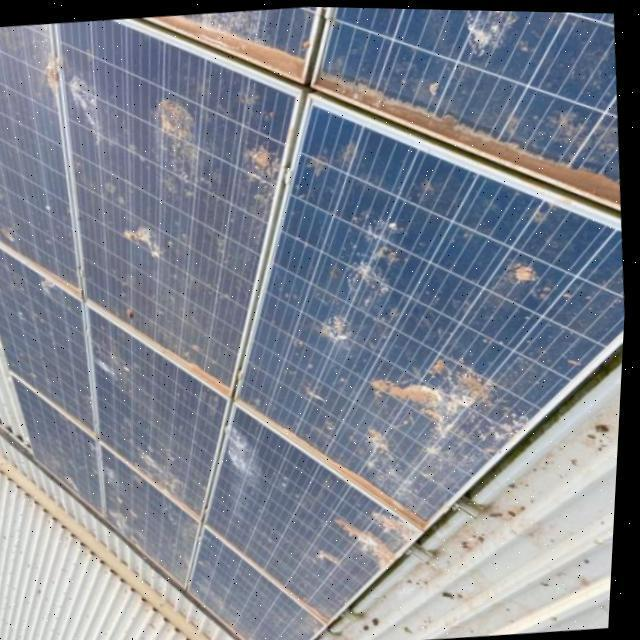Anomaly Solar Panel: (237, 97, 628, 528), (0, 17, 305, 386), (315, 6, 622, 208), (169, 394, 416, 623), (28, 293, 271, 516), (0, 198, 124, 456), (69, 440, 226, 585), (0, 23, 83, 294), (0, 374, 140, 515), (171, 527, 326, 640)
Surface Contaminant: (322, 307, 543, 527), (312, 68, 622, 201), (113, 15, 305, 76), (123, 423, 217, 508), (146, 88, 209, 210), (234, 135, 298, 249), (343, 203, 412, 299), (327, 498, 402, 568), (436, 8, 523, 54), (303, 133, 369, 182), (63, 67, 107, 136), (113, 216, 165, 272), (23, 42, 68, 104), (221, 417, 262, 478), (370, 495, 419, 543), (182, 8, 261, 36), (314, 536, 356, 575), (313, 308, 356, 346), (503, 249, 545, 284)
